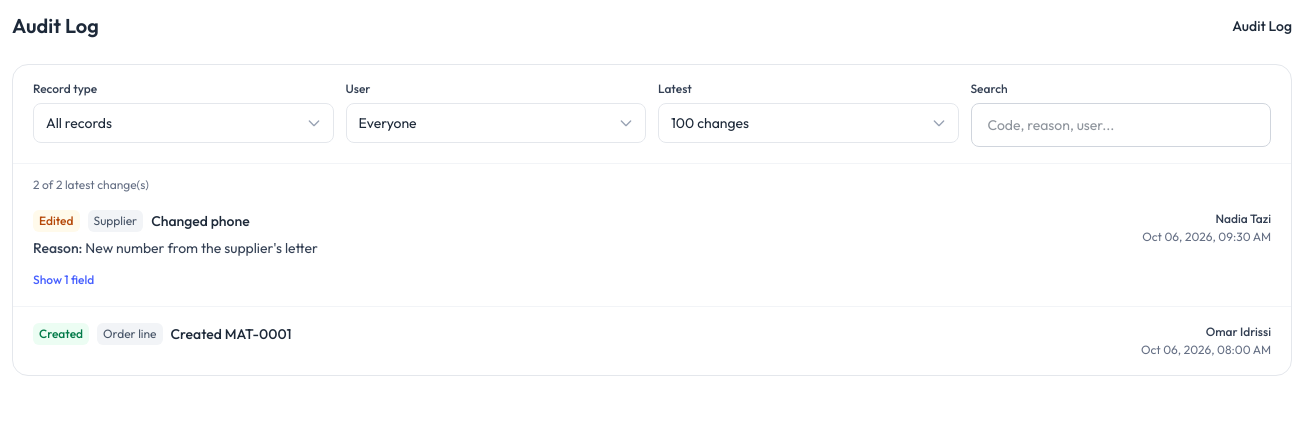
Test: audit log page › rule: field changes open on request
This screenshot has width=1304, height=425.
Click the button "Show 1 field": (64, 280) [33,271,94,289]
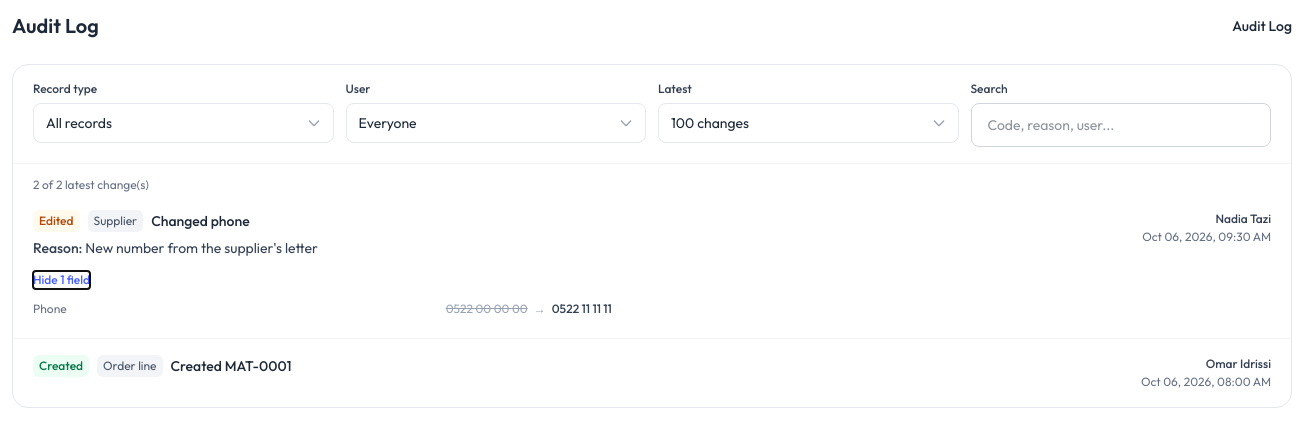
Check: the text "0522 11 11 11" is shown, box [552,301,612,316]
